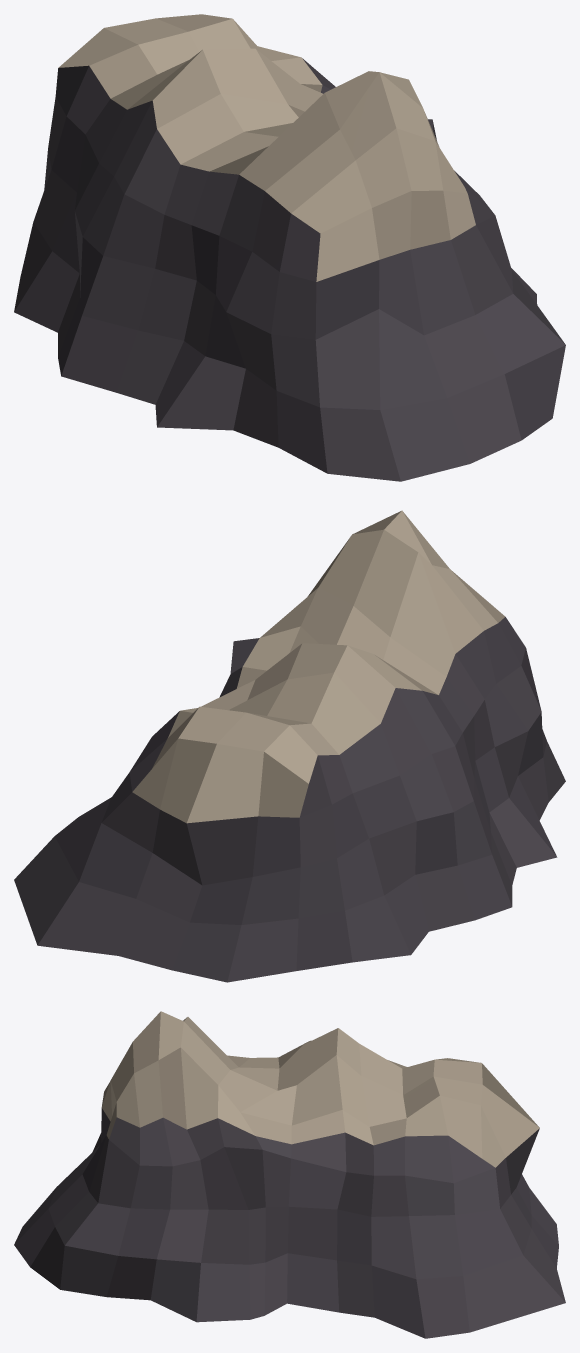
Rendered from GoraZeSniegiem_02.glb.
The picture shows the model from 3 angles, top to bottom: view 1: azimuth 30°, elevation 25°; view 2: azimuth 150°, elevation 25°; view 3: azimuth 270°, elevation 25°; orthographic projection. The views are drawn at different scales.
Parts seen in each view (by area): view 1: BigROCK; view 2: BigROCK; view 3: BigROCK.
Boxes of the visible parts, x1=… form: BigROCK: x1=14, y1=14, x2=565, y2=481; BigROCK: x1=14, y1=510, x2=565, y2=982; BigROCK: x1=14, y1=1011, x2=565, y2=1338.
Bounding box in the file's own units: 19.6 × 13.27 × 27.47.
Materials: 1 (1 with a texture image).
